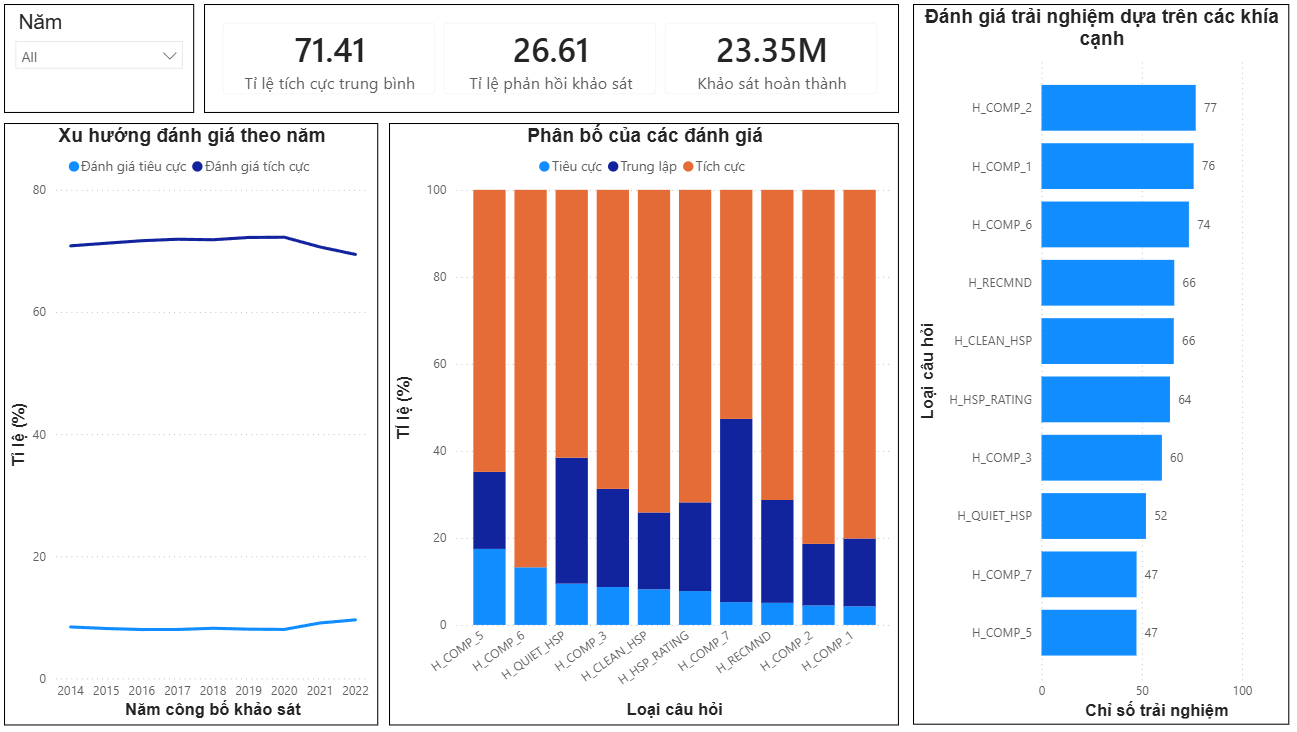

What the dashboard file says about the page in this screenshot:
{"tool":"powerbi","page":{"name":"Page 1","canvas":[1280,720],"ordinal":0},"visuals":[{"type":"lineChart","title":"Xu hướng đánh giá theo năm","fields":{"Category":["reports.Release Year"],"Y":["Avg(state_results.Bottom-box Percentage)","Avg(state_results.Top-box Percentage)"]},"box":[10.7,124.5,363.8,585.5],"z":0},{"type":"columnChart","title":"Phân bố của các đánh giá","fields":{"Y":["Avg(state_results.Bottom-box Percentage)","Avg(state_results.Middle-box Percentage)","Avg(state_results.Top-box Percentage)"],"Category":["measures_table.Measure ID"]},"box":[385.2,124.5,496,585.5],"z":1000},{"type":"barChart","title":"Đánh giá trải nghiệm dựa trên các khía cạnh","fields":{"Category":["measures_table.Measure ID"],"Y":["state_results.Net_Satisfaction"]},"box":[894.8,8.8,365.7,701.3],"z":2000},{"type":"cardVisual","fields":{"Data":["Avg(national_results.Top-box Percentage)","Avg(responses.Response Rate (%))","Sum(responses.Completed Surveys (Num))"]},"box":[205.2,8.8,676,106],"z":3000},{"type":"slicer","title":"Năm công bố","fields":{"Values":["reports.Release Year"]},"box":[10.7,8.8,184.8,106],"z":4000}]}

Visuals, with their boxes in screenshot pixels (x1, y1, x2, y2), scaled from the page's 1280x720 canvas onto the 1297x732 screenshot:
"Xu hướng đánh giá theo năm" lineChart: pyautogui.locateOnScreen(11, 127, 379, 722)
"Phân bố của các đánh giá" columnChart: pyautogui.locateOnScreen(390, 127, 893, 722)
"Đánh giá trải nghiệm dựa trên các khía cạnh" barChart: pyautogui.locateOnScreen(907, 9, 1277, 722)
cardVisual - Avg(national_results.Top-box Percentage) x Avg(responses.Response Rate (%)): pyautogui.locateOnScreen(208, 9, 893, 117)
"Năm công bố" slicer: pyautogui.locateOnScreen(11, 9, 198, 117)
